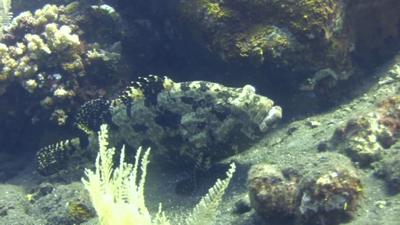Serranidae -Groupers-: (31, 71, 287, 197)
